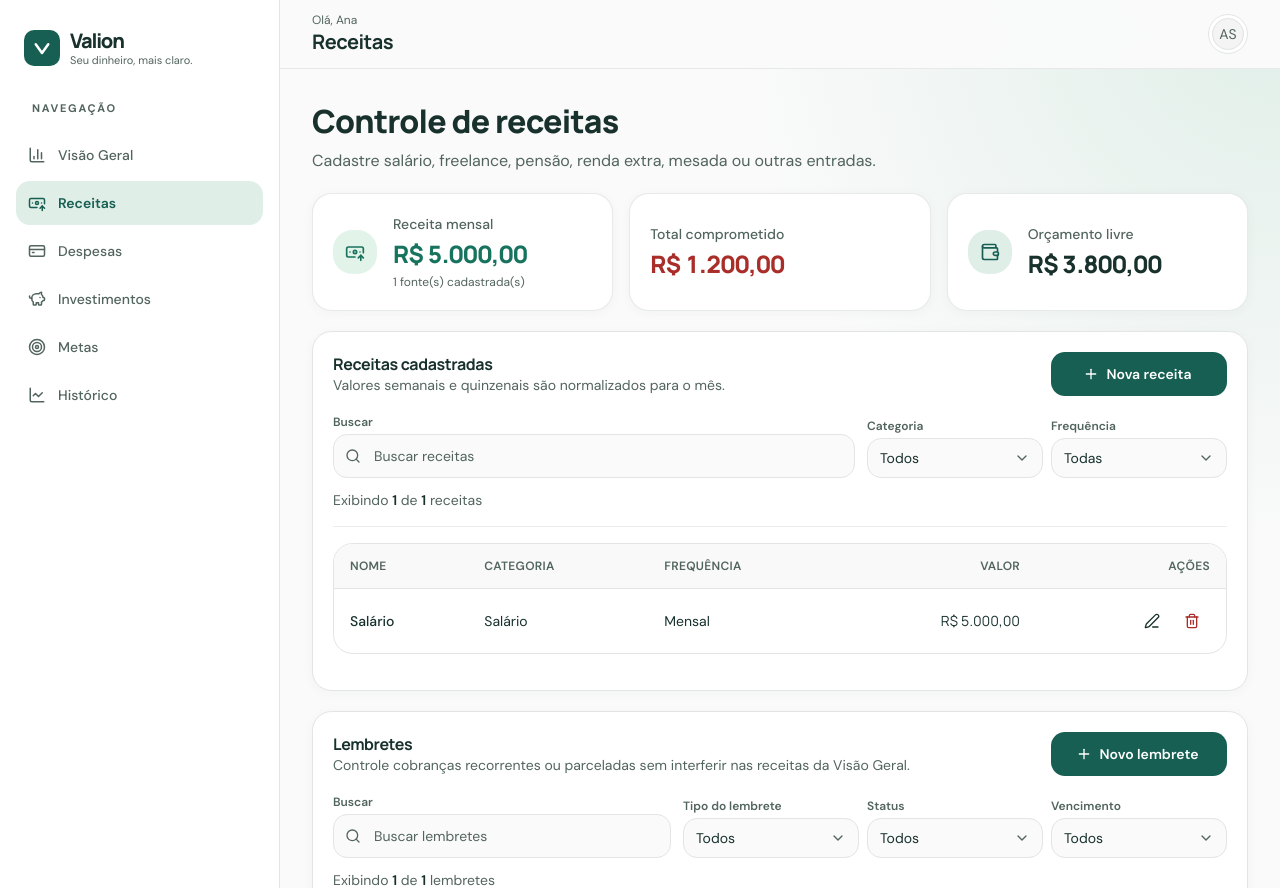
it: FinanceDashboard › filters registered incomes without hiding the creation action
The image size is (1280, 888).
Expected: the element named "Nova receita" is shown, [312, 331, 1248, 690]
Expected: the button "Nova receita" is shown, [1051, 352, 1227, 396]
Type "xyz" into the search field named "Buscar receitas" at coordinates (594, 456), box [333, 434, 855, 478]
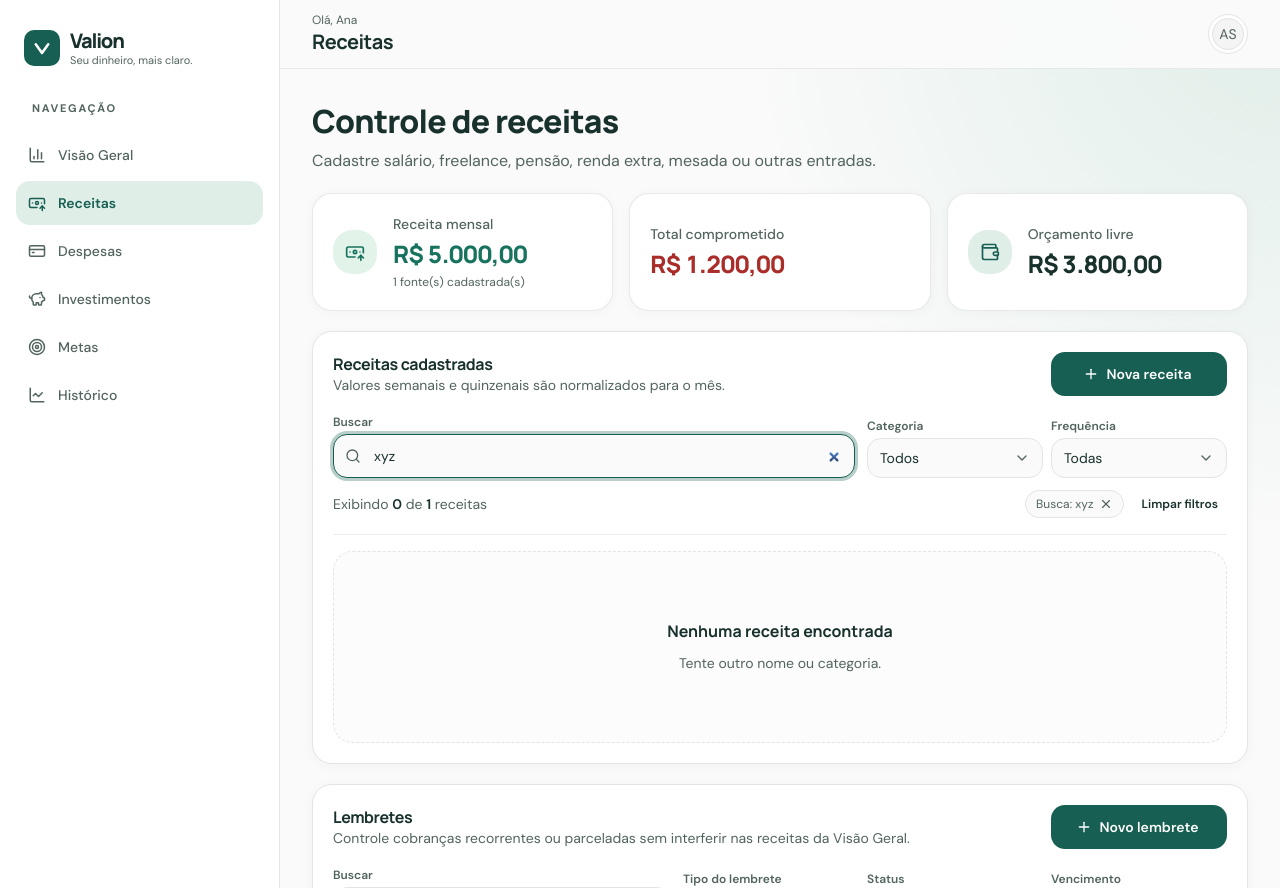
Expected: the button "Nova receita" is shown, [1051, 352, 1227, 396]
Expected: the text "Nenhuma receita encontrada" is shown, [667, 619, 893, 643]
